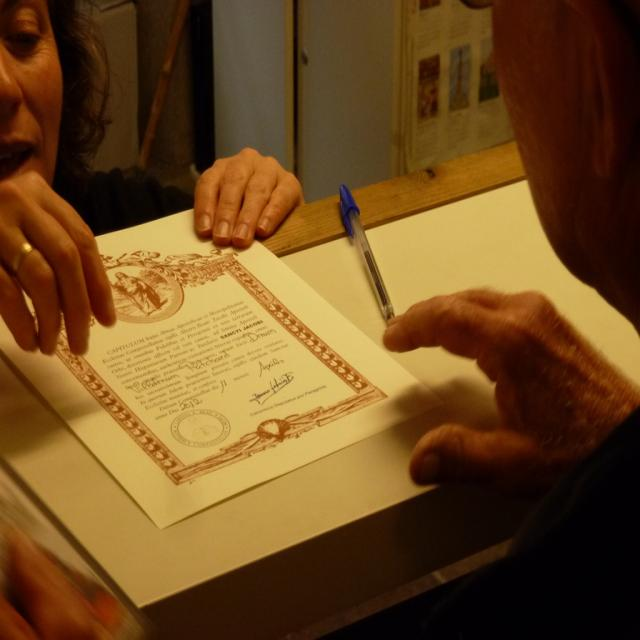pen: (336, 185, 396, 321)
